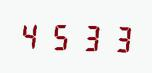five: (46, 18, 73, 52)
four: (18, 18, 45, 51)
three: (74, 19, 101, 53), (102, 20, 129, 54)
